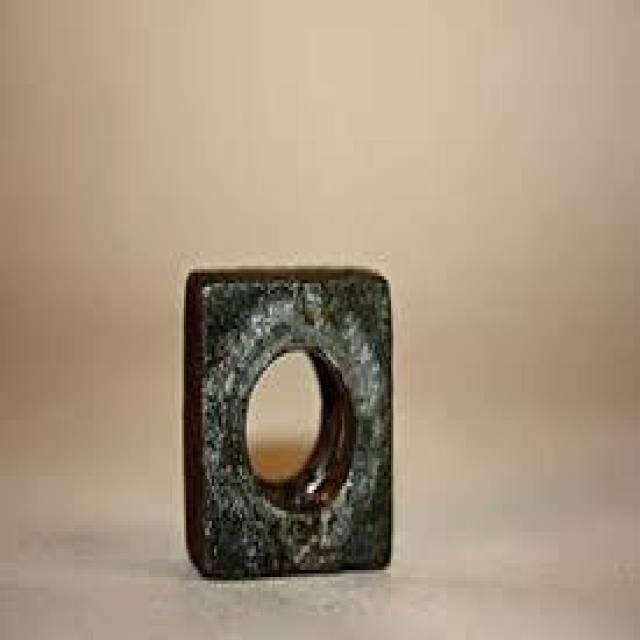non-corrosion: (177, 261, 402, 582)
